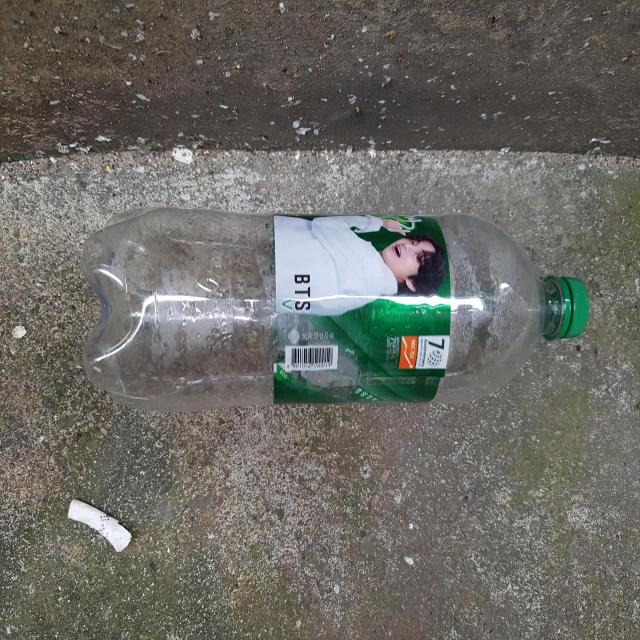plastic: (81, 208, 590, 411)
